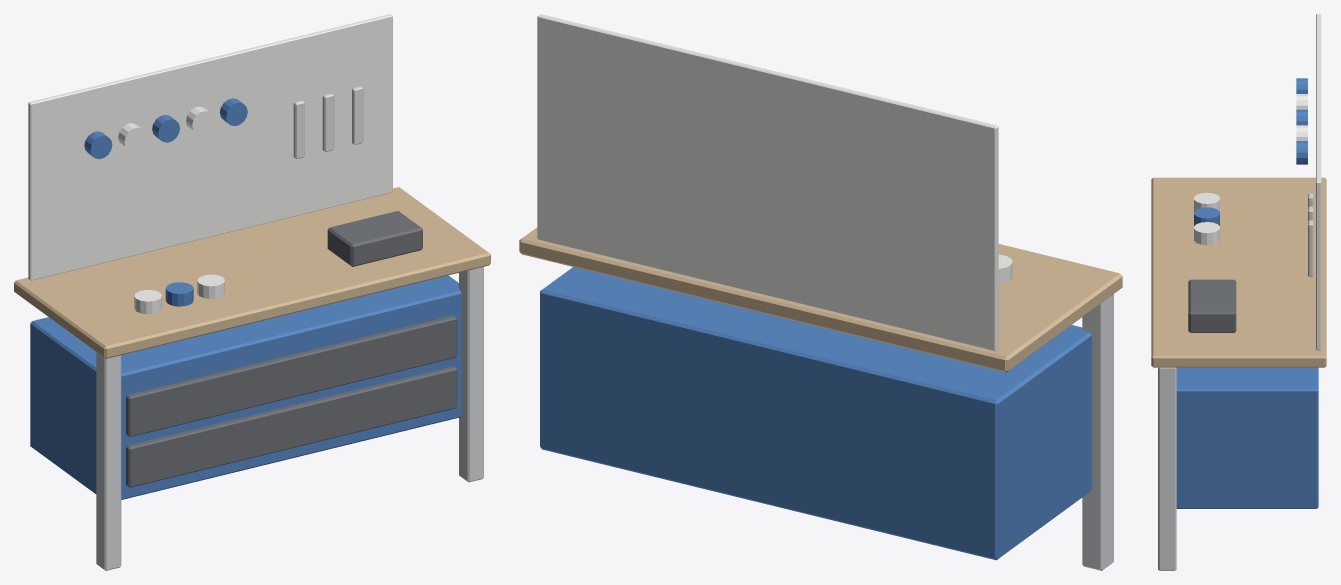
Rendered from ice-hockey-arena-and-locker-room-tape-and-tools-bench-516b7a38__33733.glb.
3 views of the same model, side by side, from view 1: azimuth 30°, elevation 25°; view 2: azimuth 150°, elevation 25°; view 3: azimuth 270°, elevation 25° (orthographic). The views are drawn at different scales.
Visible parts, largest first — view 1: tape-and-tools-bench; view 2: tape-and-tools-bench; view 3: tape-and-tools-bench.
Boxes of the visible parts, left/top/right/bottom form: tape-and-tools-bench: left=14, top=14, right=490, bottom=570; tape-and-tools-bench: left=519, top=14, right=1122, bottom=570; tape-and-tools-bench: left=1151, top=14, right=1326, bottom=570.
Size of the model in its own units: 1.6 by 1.6 by 0.66.
